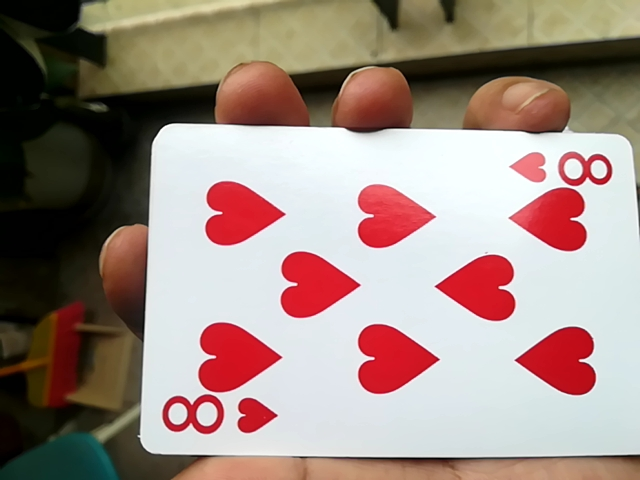hx 8: (130, 119, 625, 467)
